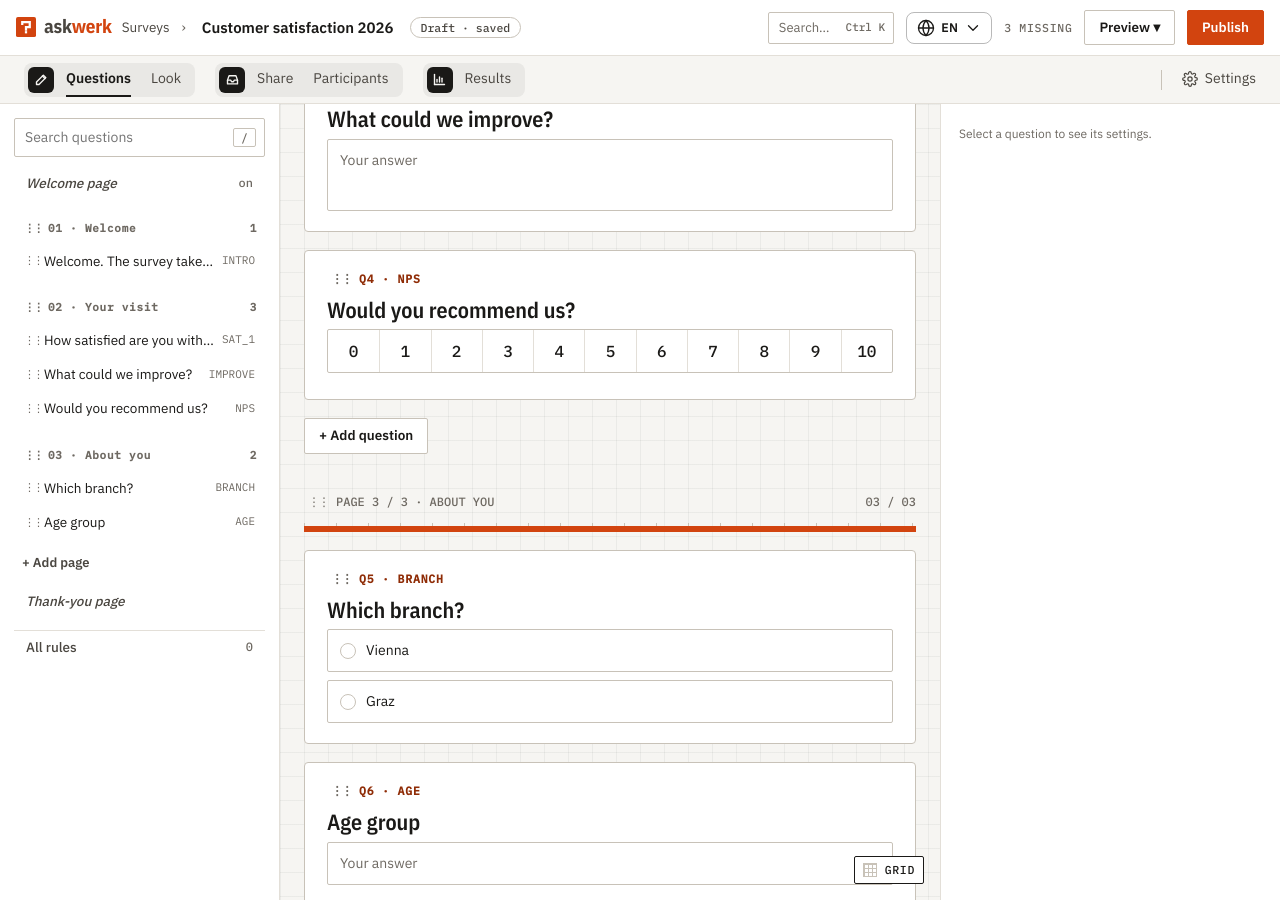
Test: Pages in the designer (AWK-29, W17 A) › selects a page by clicking its header on the canvas
(page scrolled)
Check: the navigation bar named "Outline" is shown, box [0,104,280,899]
Click the button with aria-label "Page 3 of 3 · About you": coordinates (372, 501) [336,496,916,508]
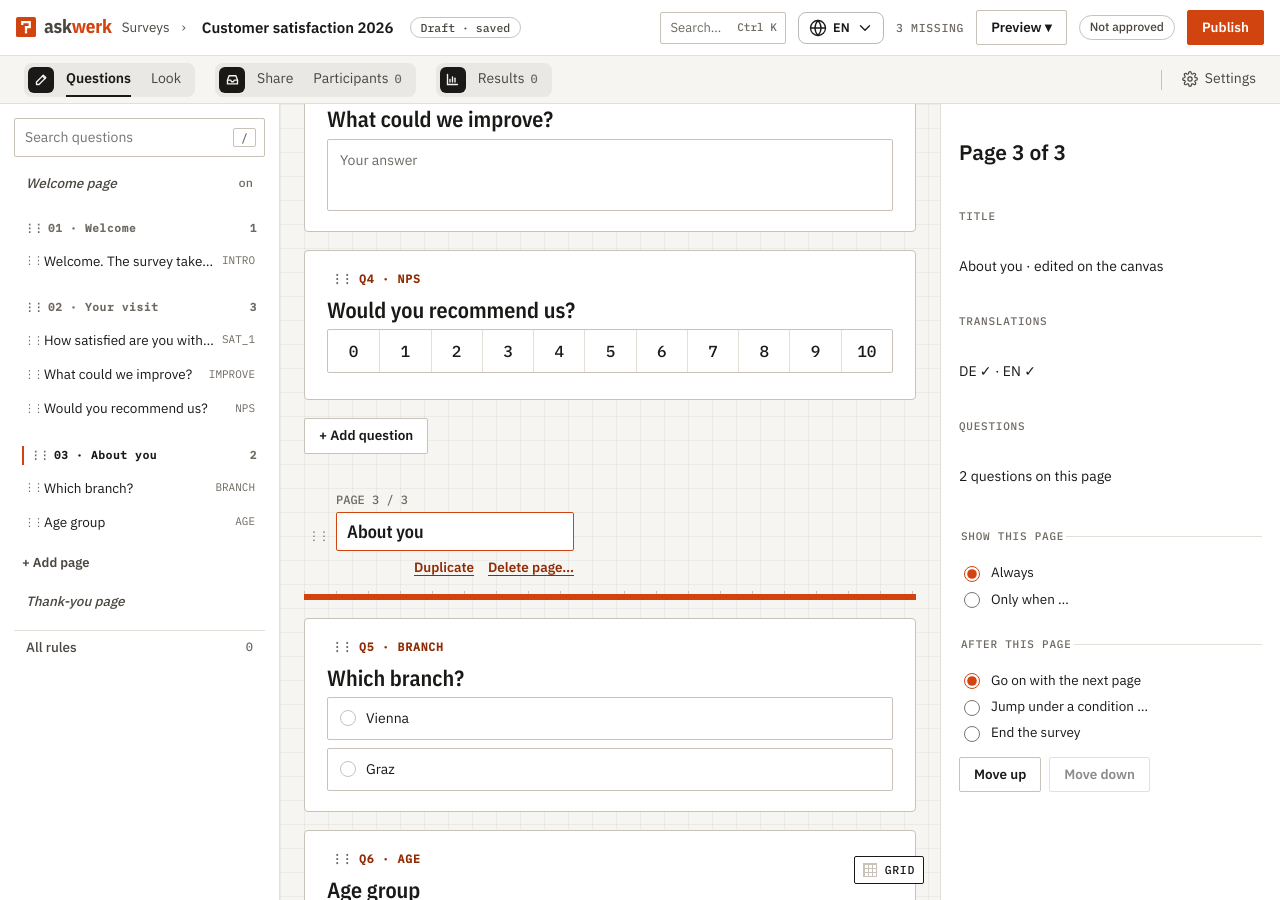
Check: the field named "Page title" holds "About you", box [336,512,574,551]
